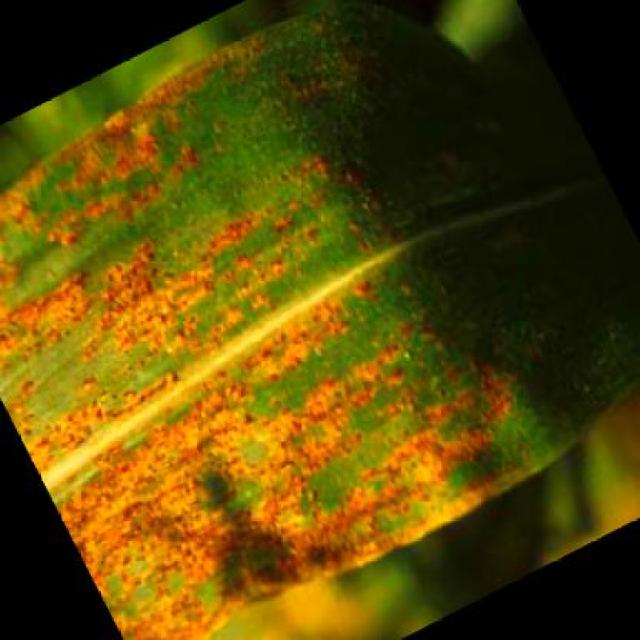Corn_Rust: (80, 80, 505, 562)
